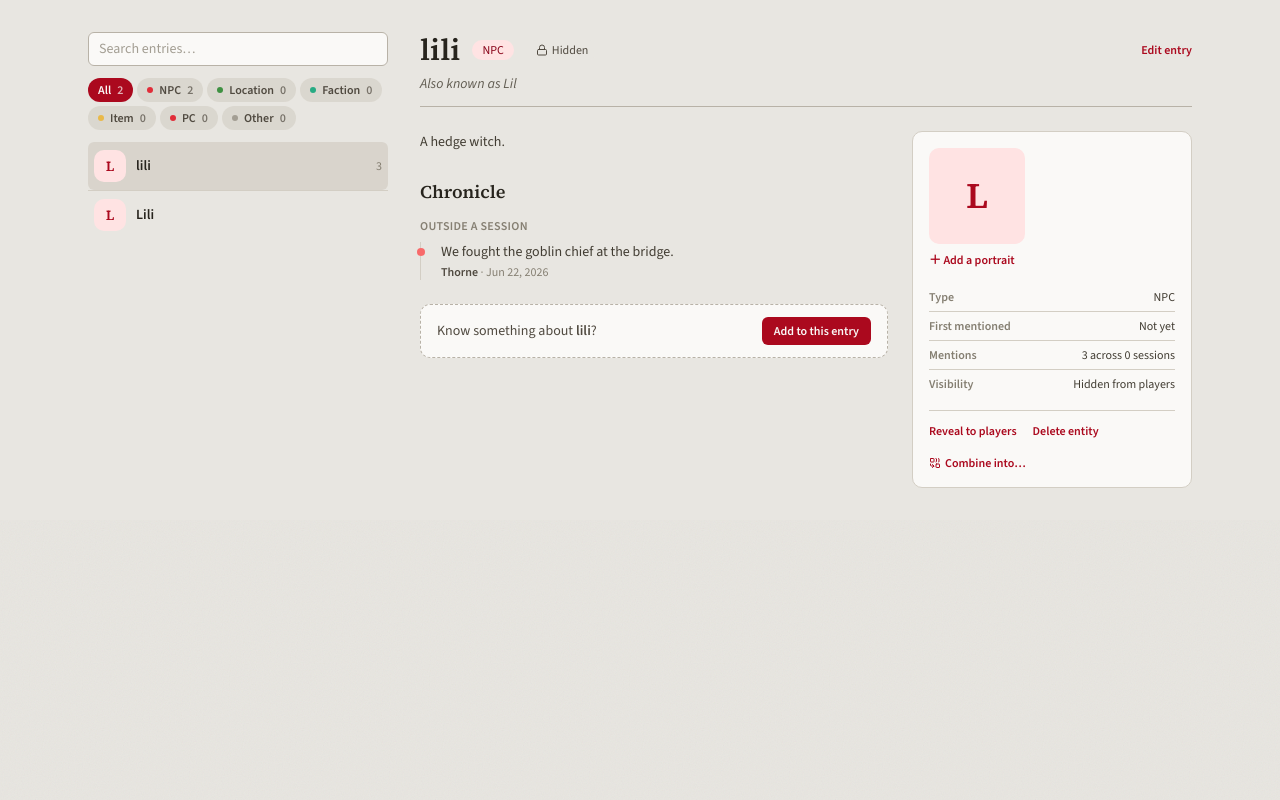
Scenario: EntityDetailPage (#248) › Combine into… (#1943) › keeps ONE Modal instance across the picker → confirm step change — no unmount/remount (review finding #1)
Click the button "Combine into…". click: (977, 463)
box: [929,455,1026,471]
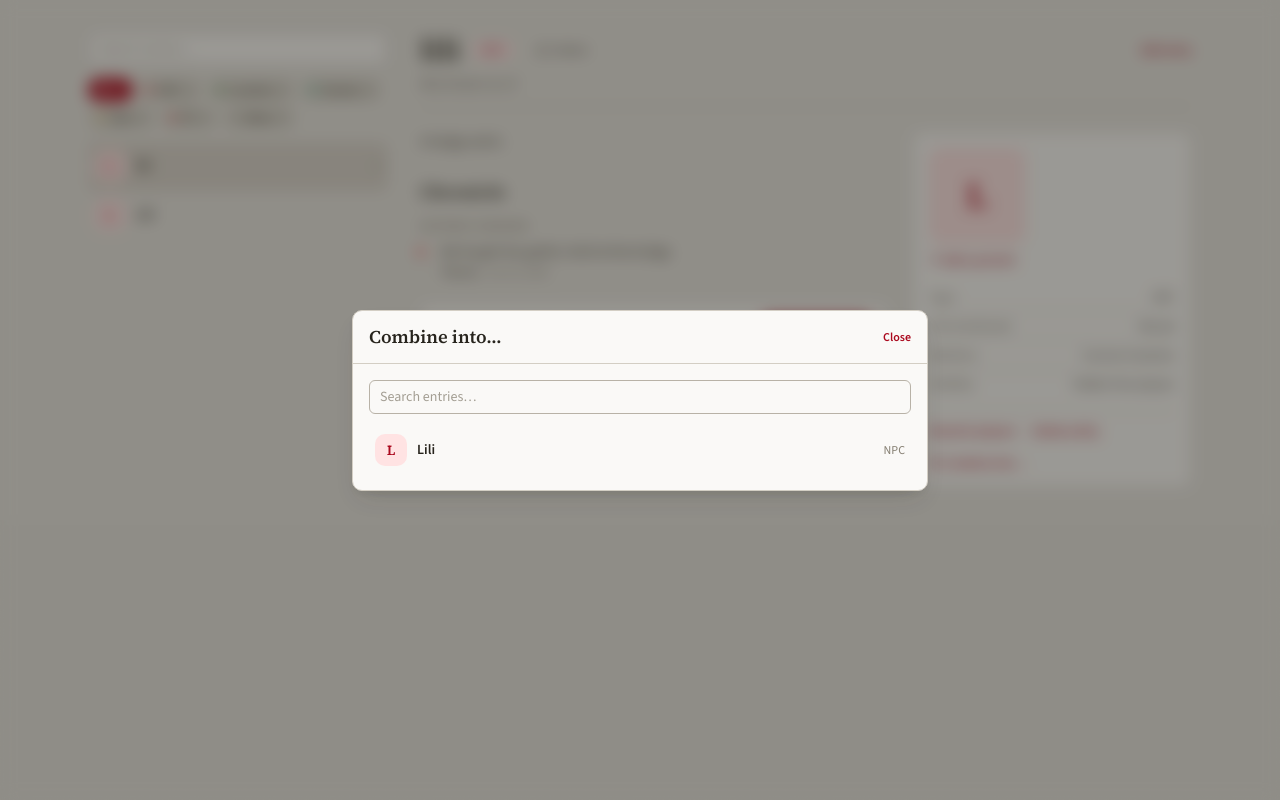
Click the button "L Lili NPC". click: (391, 450)
box: [369,426,911,474]
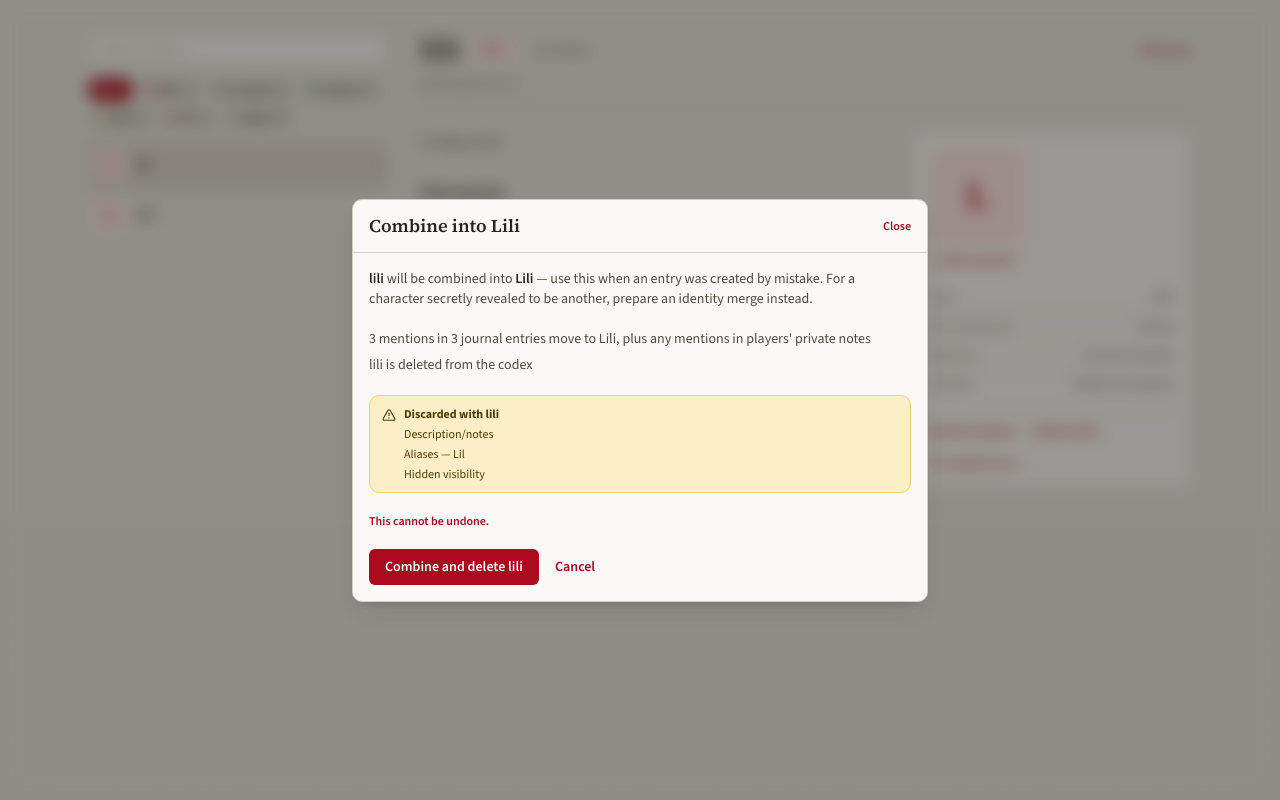
Result: the heading "Combine into Lili" is shown at [369,212,520,240]
